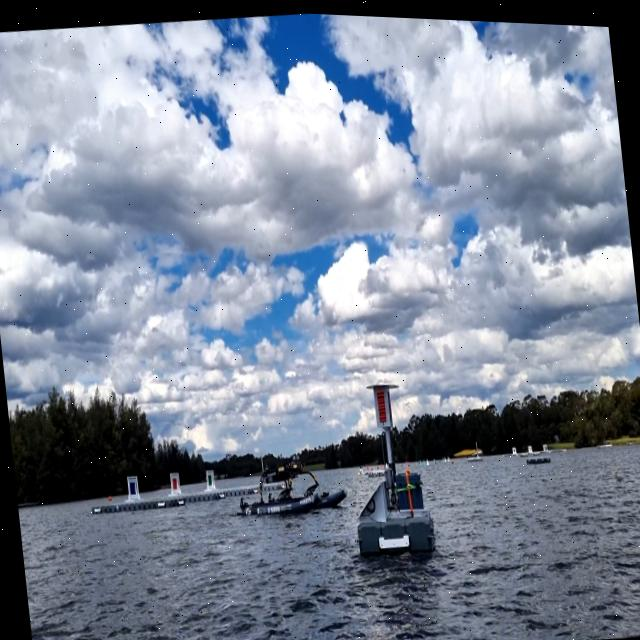led: (374, 384, 388, 420)
